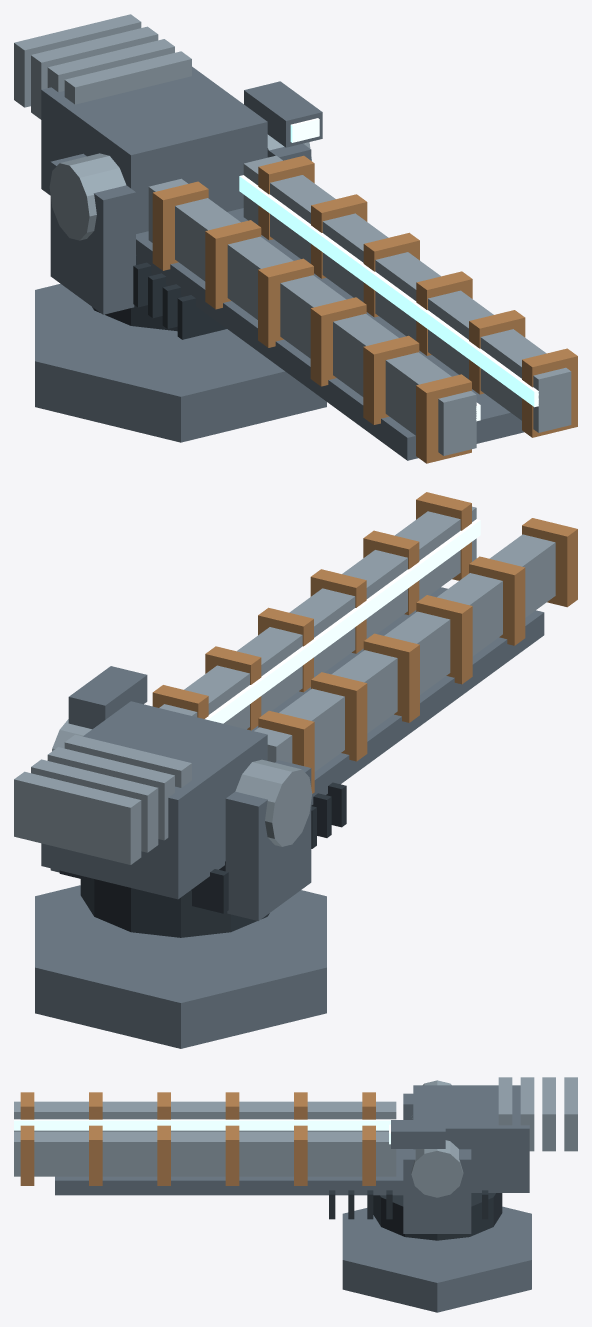
The model's file is railgun_t3.glb.
3 views of the same model, one above another, from view 1: azimuth 30°, elevation 25°; view 2: azimuth 150°, elevation 25°; view 3: azimuth 270°, elevation 25° (orthographic). The views are drawn at different scales.
Parts seen in each view (by area): view 1: Mass driver rail (×2), Ground plinth, Rail winding (×12), Breech, Capacitor (×4), Lower spine, Cradle, Induction track, Elevation motor, Cooling blade (×4), Targeting optic, Bearing (+1 smaller); view 2: Ground plinth, Mass driver rail (×2), Rail winding (×12), Breech, Capacitor (×4), Cradle, Lower spine, Bearing, Induction track, Elevation motor, Targeting optic, Cooling blade (×2); view 3: Mass driver rail (×2), Ground plinth, Breech, Rail winding (×12), Lower spine, Induction track, Cradle, Capacitor (×4), Bearing, Elevation motor, Targeting optic.
Part boxes in pixels (box(x1,y1,x2,y2)): Mass driver rail (×2): box(148, 155, 571, 455); Ground plinth: box(35, 284, 326, 442); Rail winding (×12): box(152, 155, 577, 463); Breech: box(41, 66, 267, 233); Capacitor (×4): box(14, 14, 191, 119); Lower spine: box(136, 208, 523, 460); Cradle: box(50, 153, 135, 314); Induction track: box(239, 175, 538, 407); Elevation motor: box(49, 153, 126, 240); Cooling blade (×4): box(133, 262, 226, 339); Targeting optic: box(244, 81, 322, 147); Bearing: box(92, 305, 177, 331); Ground plinth: box(35, 885, 326, 1048); Mass driver rail (×2): box(159, 506, 555, 771); Rail winding (×12): box(152, 492, 577, 793); Breech: box(41, 701, 267, 899); Capacitor (×4): box(14, 734, 191, 864); Cradle: box(225, 760, 311, 920); Lower spine: box(252, 587, 544, 805); Bearing: box(80, 878, 269, 937); Induction track: box(205, 519, 480, 723); Elevation motor: box(235, 759, 312, 846); Targeting optic: box(68, 666, 147, 729); Cooling blade (×2): box(59, 782, 346, 913); Mass driver rail (×2): box(14, 1101, 396, 1176); Ground plinth: box(342, 1206, 531, 1312); Breech: box(413, 1085, 529, 1192); Rail winding (×12): box(20, 1092, 375, 1185); Lower spine: box(55, 1149, 412, 1195); Induction track: box(14, 1119, 396, 1130); Cradle: box(403, 1149, 471, 1233); Capacitor (×4): box(498, 1077, 577, 1151); Bearing: box(373, 1193, 502, 1240); Elevation motor: box(411, 1140, 463, 1197); Targeting optic: box(391, 1120, 445, 1148).
Bounding box in the file's own units: 1.6 × 1.38 × 4.13.
